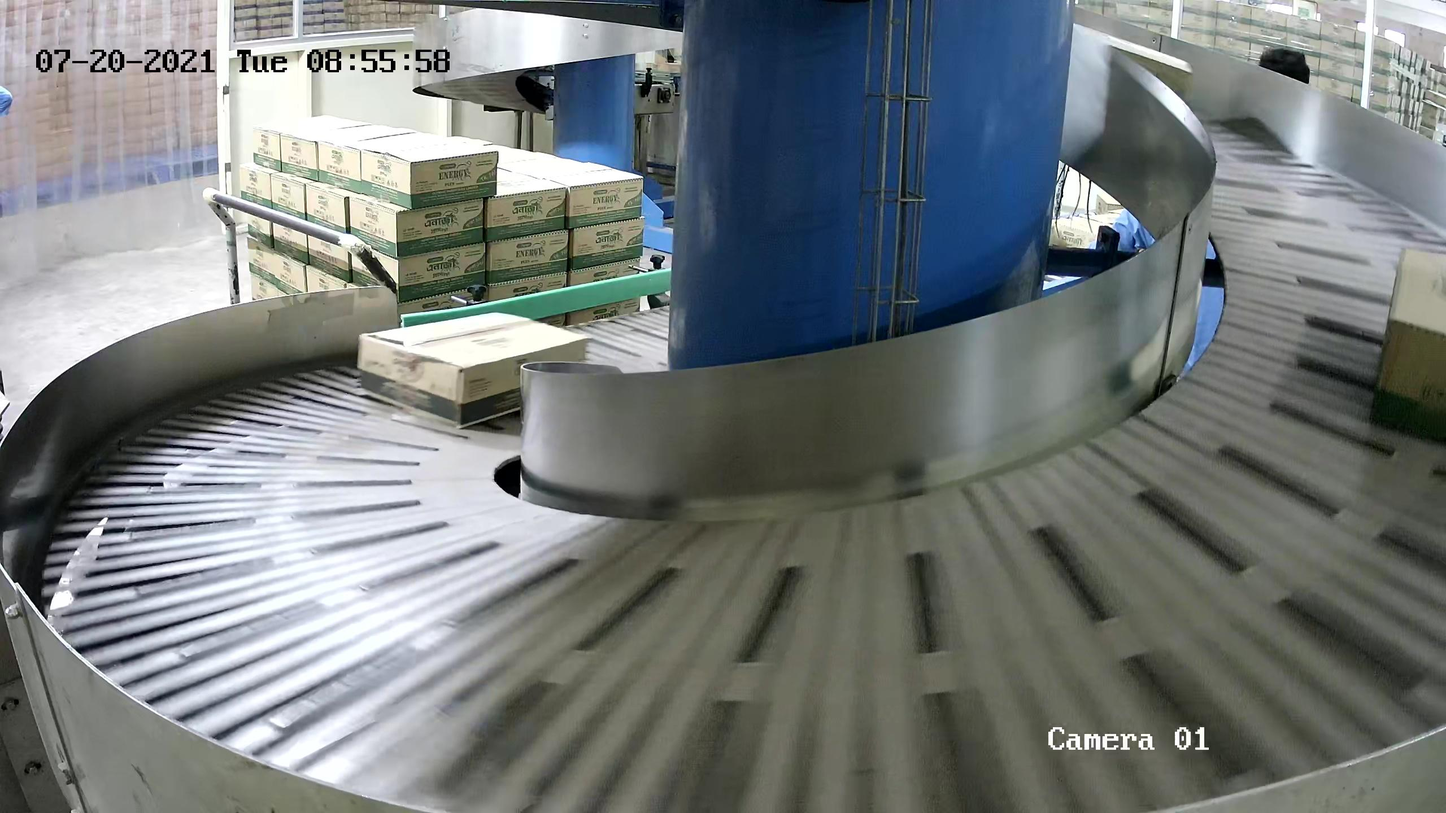Box: (355, 310, 589, 431), (1372, 247, 1446, 442)
